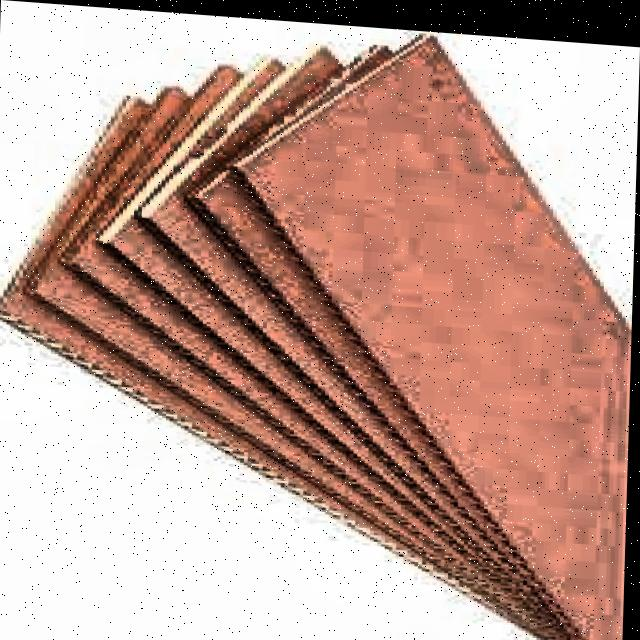cardboard: (0, 1, 640, 640)
